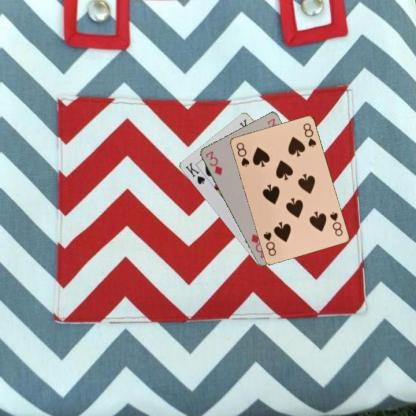3d: (202, 149, 224, 176)
8s: (233, 140, 251, 168), (327, 209, 344, 238)
Ks: (183, 160, 206, 186)
